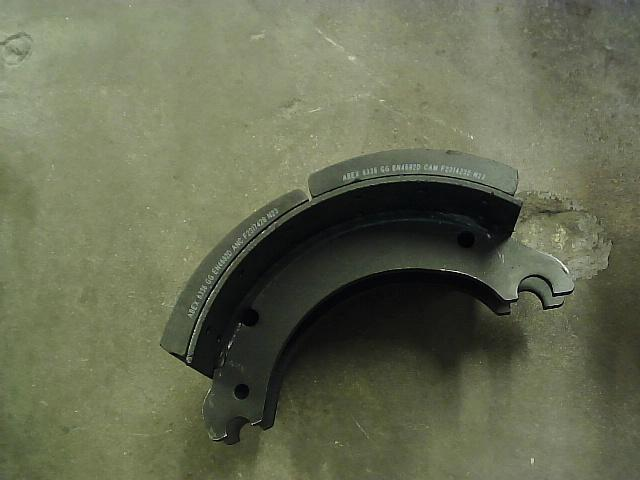brake-shoes: (161, 145, 576, 447)
